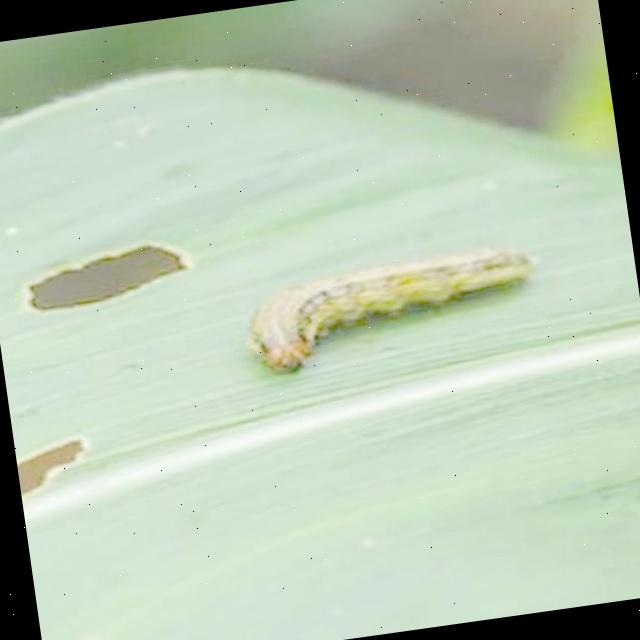worm: (239, 241, 545, 379)
